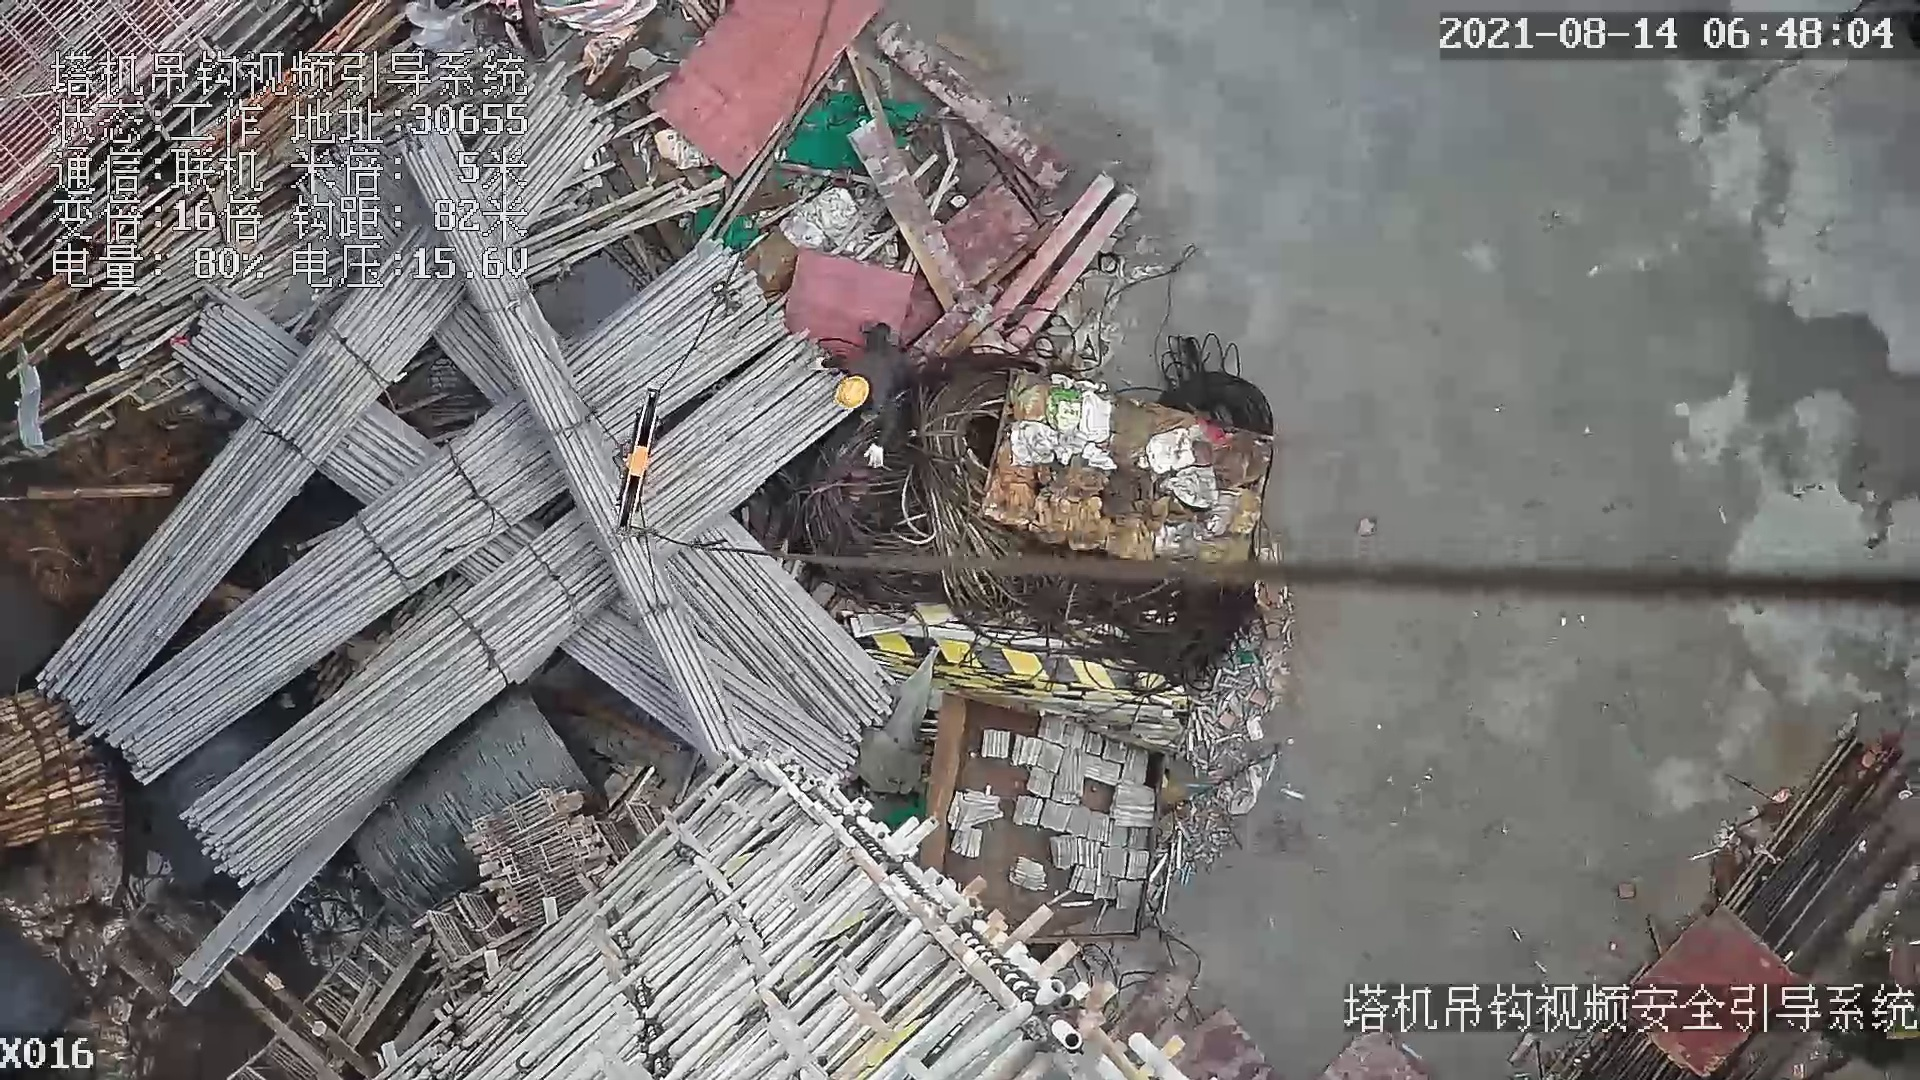board: (652, 1, 885, 182)
helmet: (832, 372, 869, 413)
hook: (608, 385, 655, 542)
person: (814, 327, 920, 467)
scaffold: (1, 690, 144, 838)
